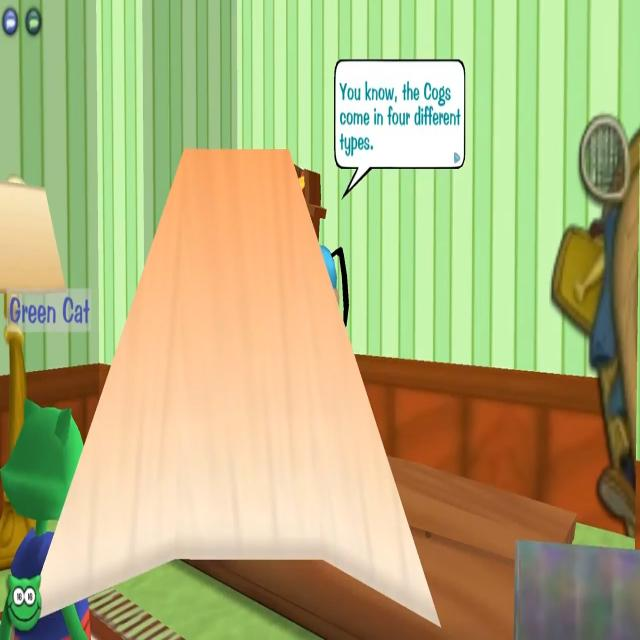npc: (301, 234, 354, 342)
